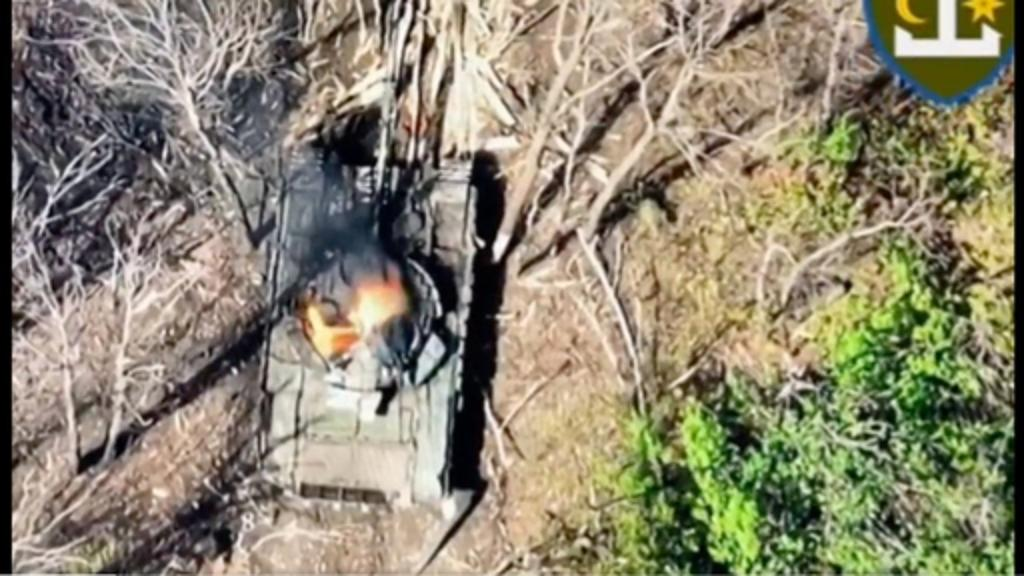TANK: (266, 0, 476, 512)
